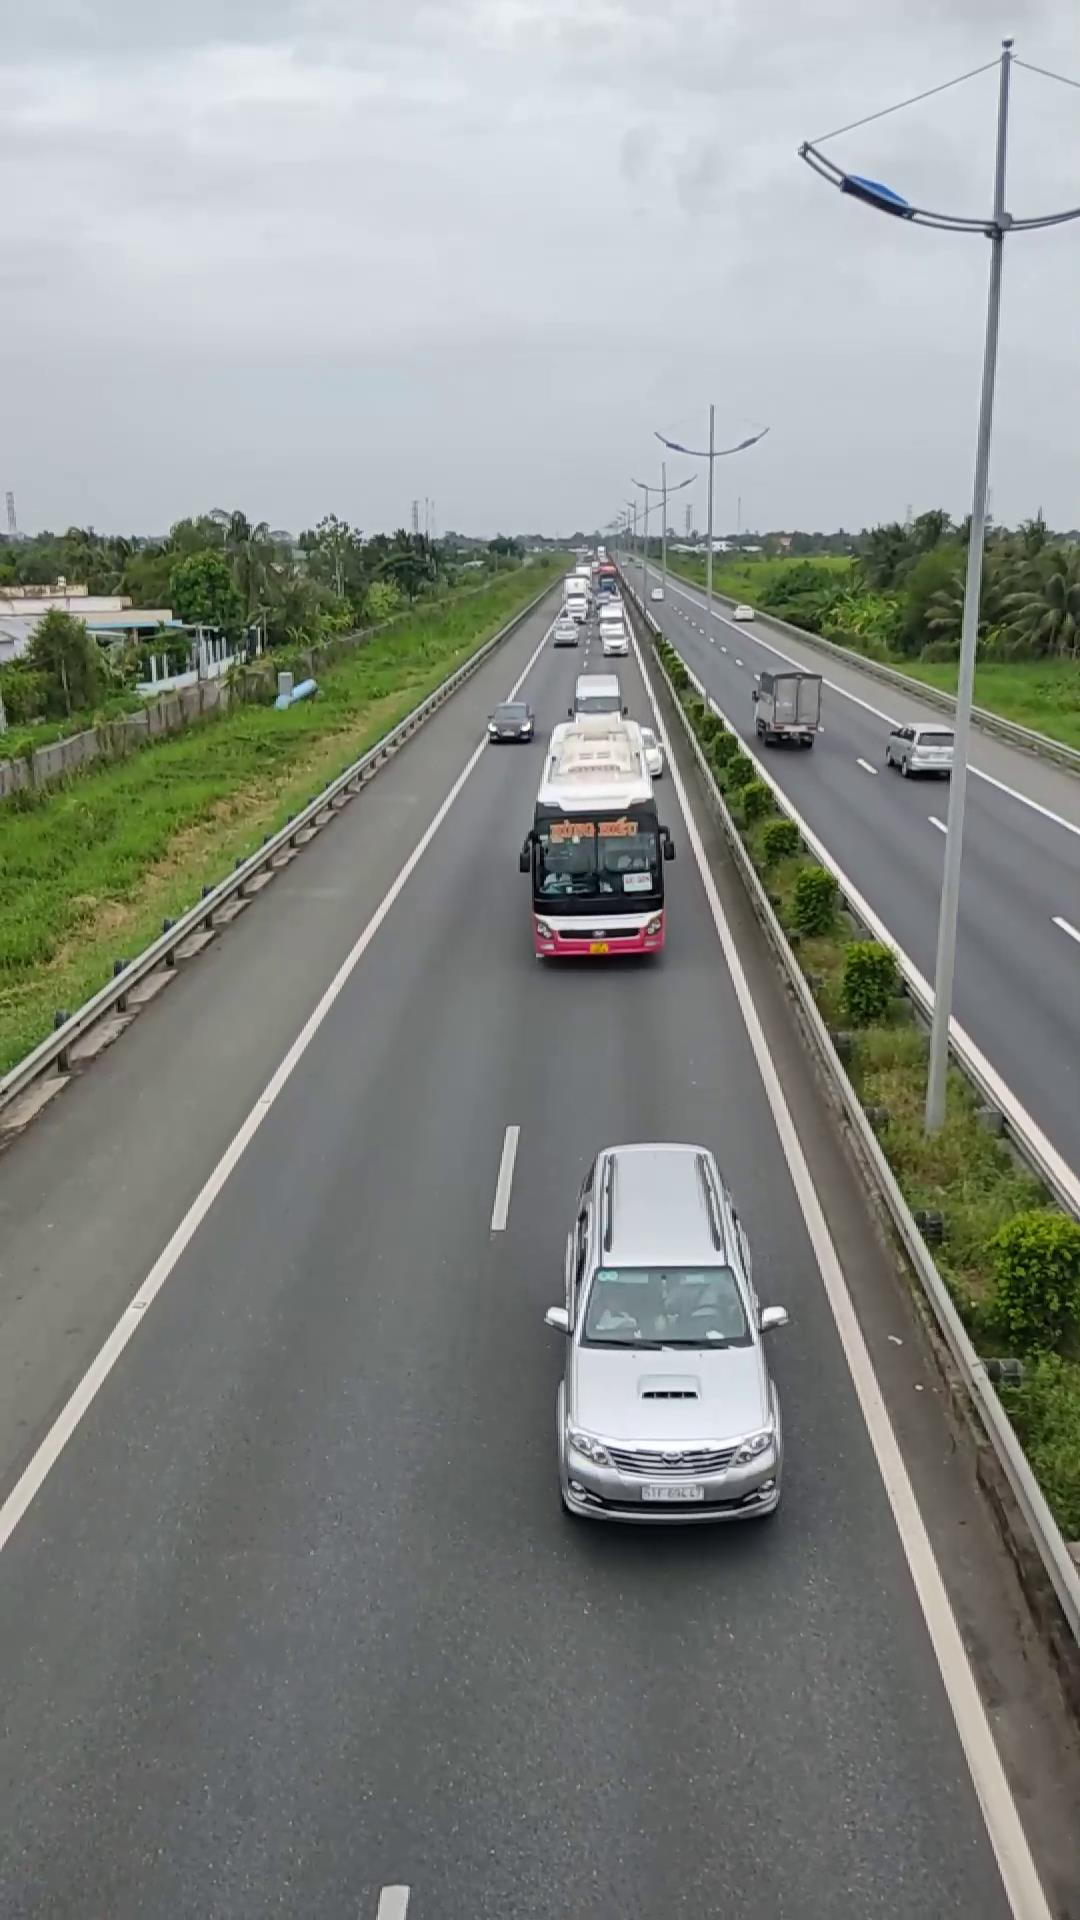bus: (517, 713, 673, 960)
car: (549, 1139, 787, 1524)
truck: (752, 663, 824, 748)
